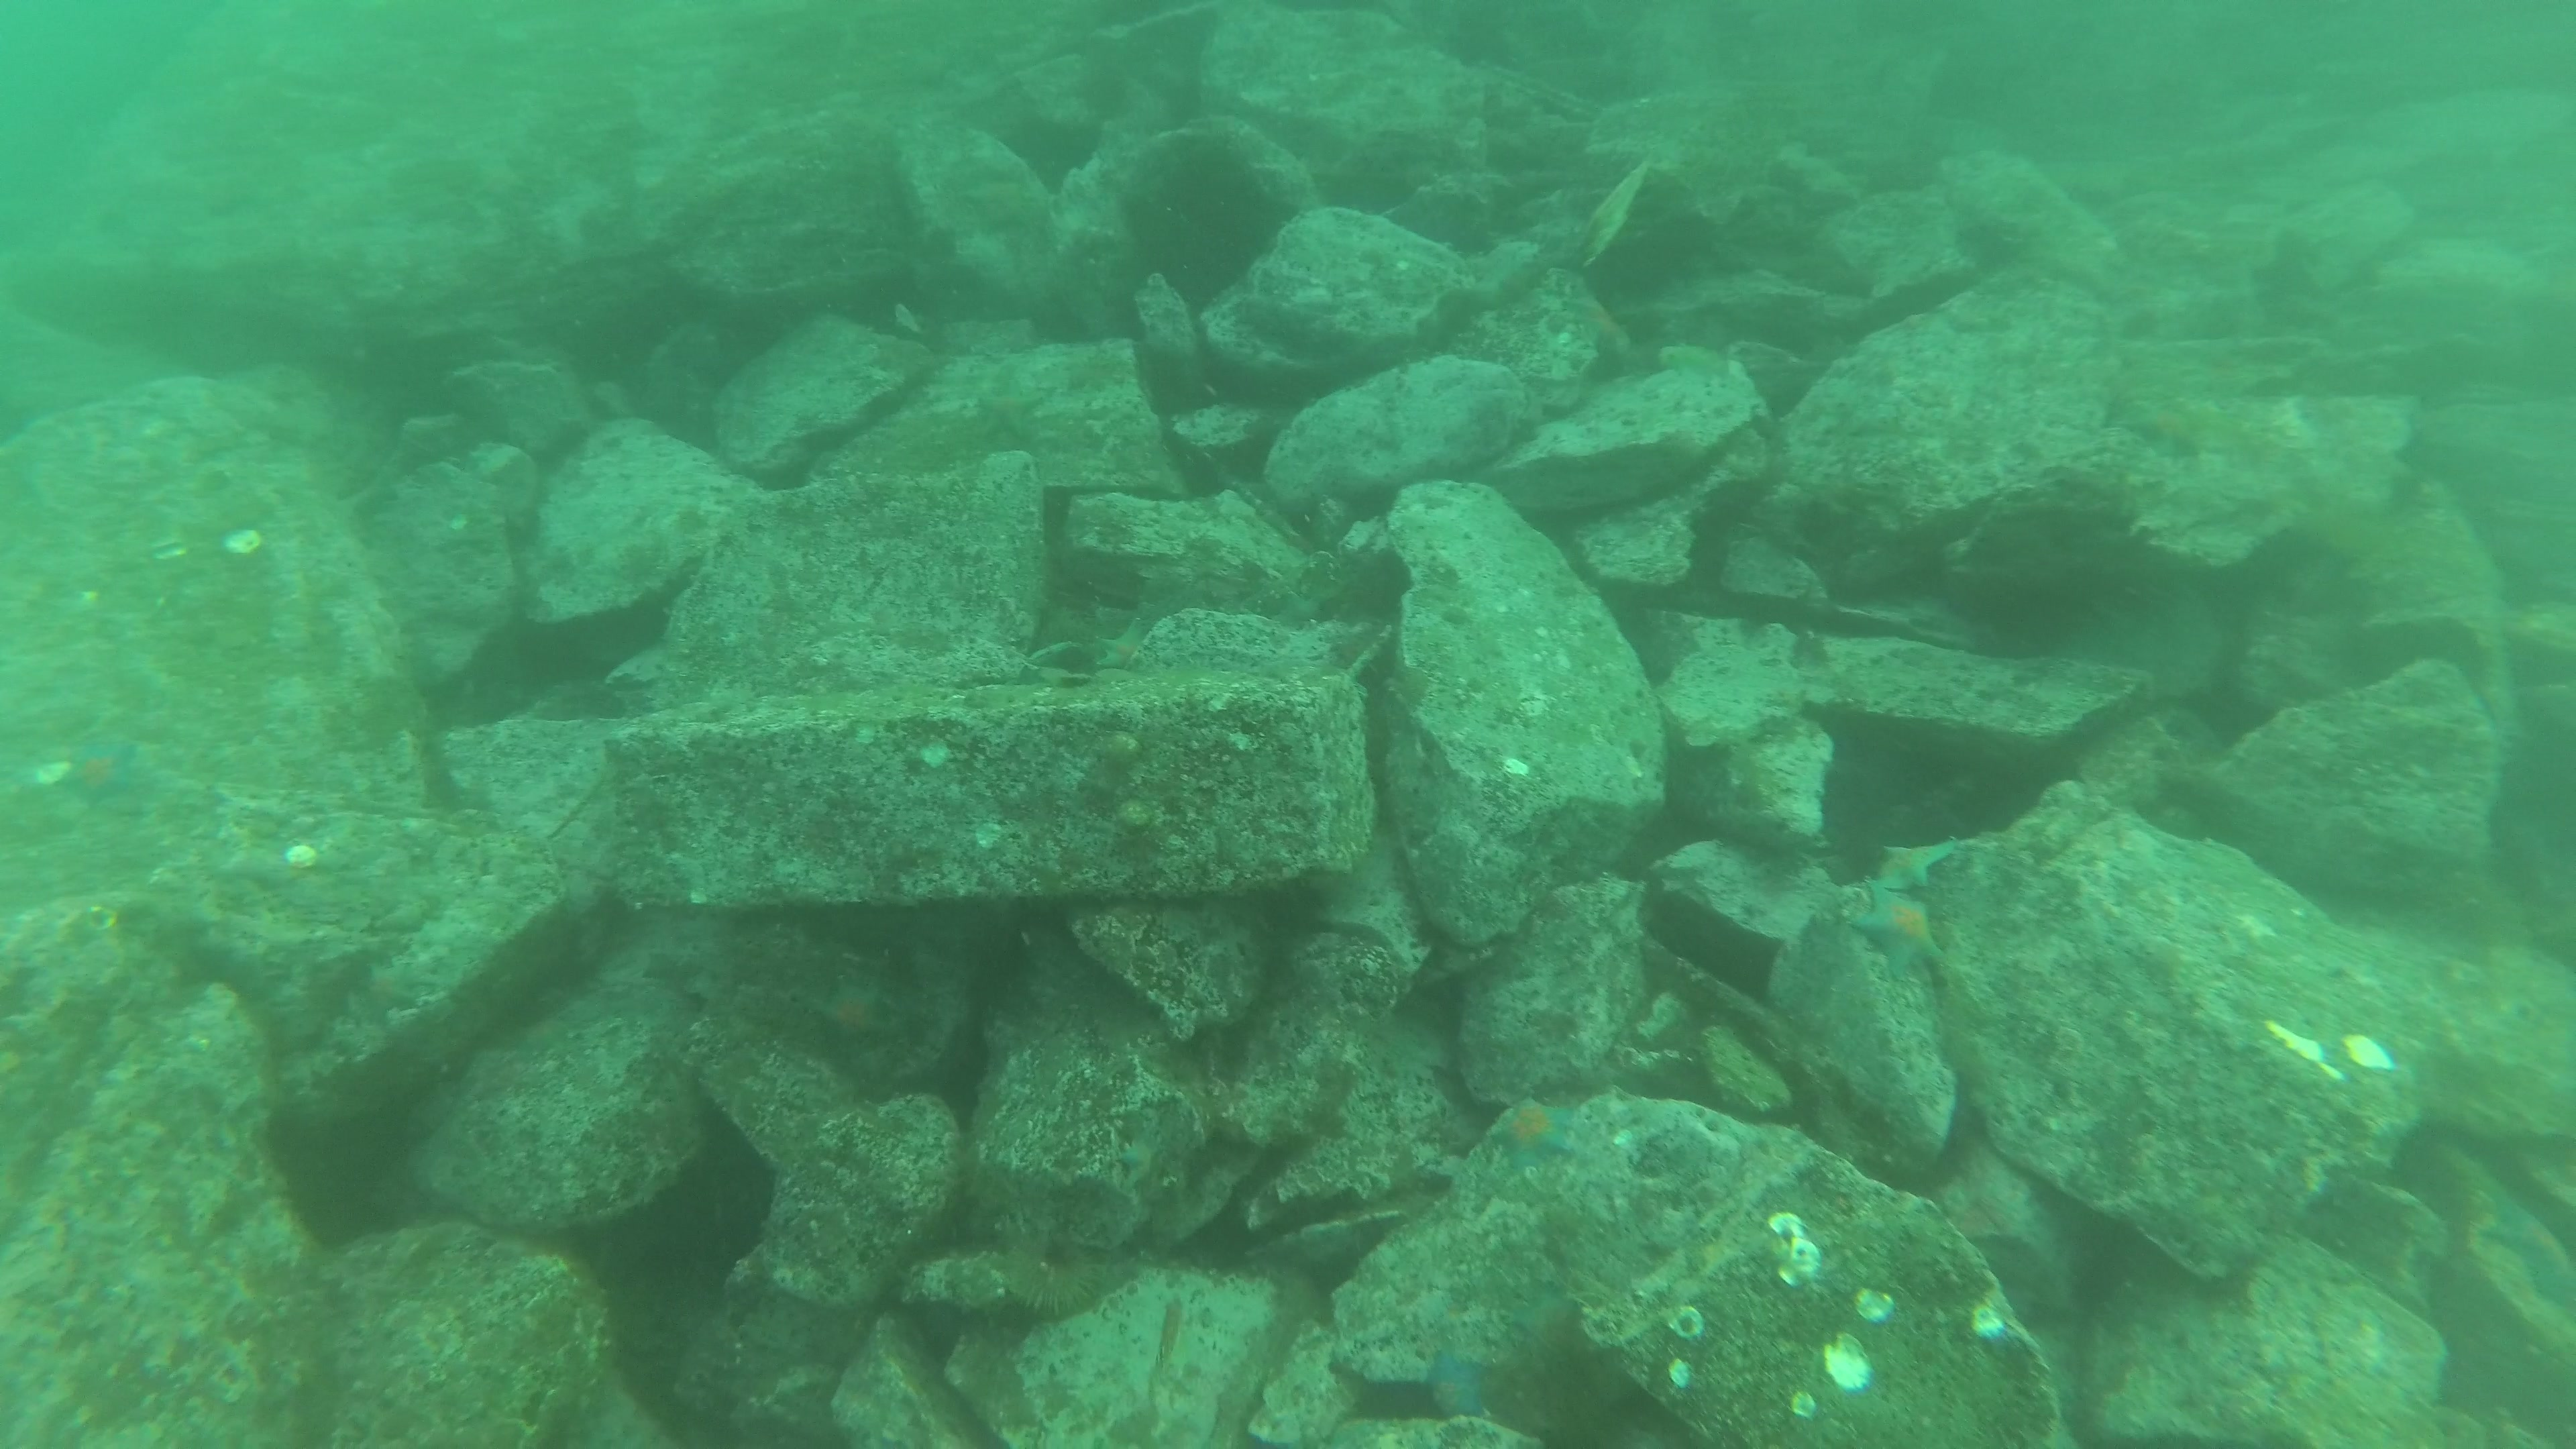echinus: (989, 1205, 1120, 1322)
starfish: (1833, 869, 1966, 984), (44, 732, 157, 819), (1412, 1339, 1506, 1435), (805, 970, 906, 1058), (1555, 274, 1652, 361), (1488, 1093, 1578, 1169), (1861, 839, 1964, 892)
